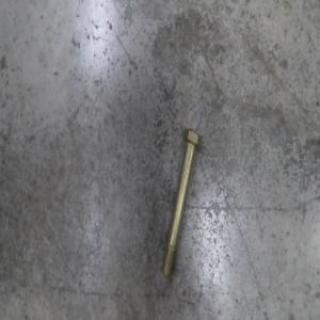Bolttrack_idkeyframe: (160, 125, 200, 278)
